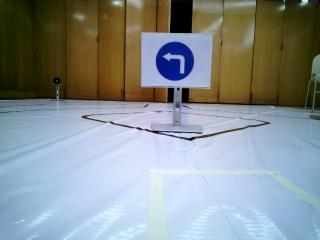left: (141, 33, 212, 88)
